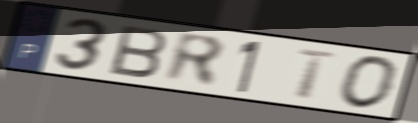1: (236, 40, 262, 95)
3: (52, 17, 111, 74)
B: (107, 22, 170, 80)
O: (337, 54, 402, 112)
R: (163, 29, 228, 90)
T: (294, 46, 340, 102)
